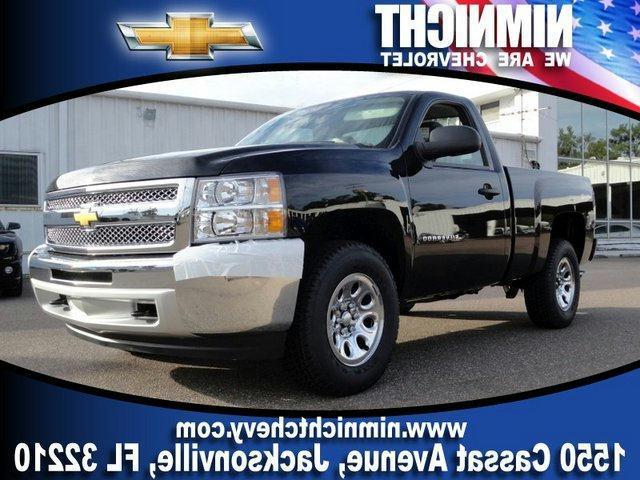Car: (34, 83, 602, 399)
